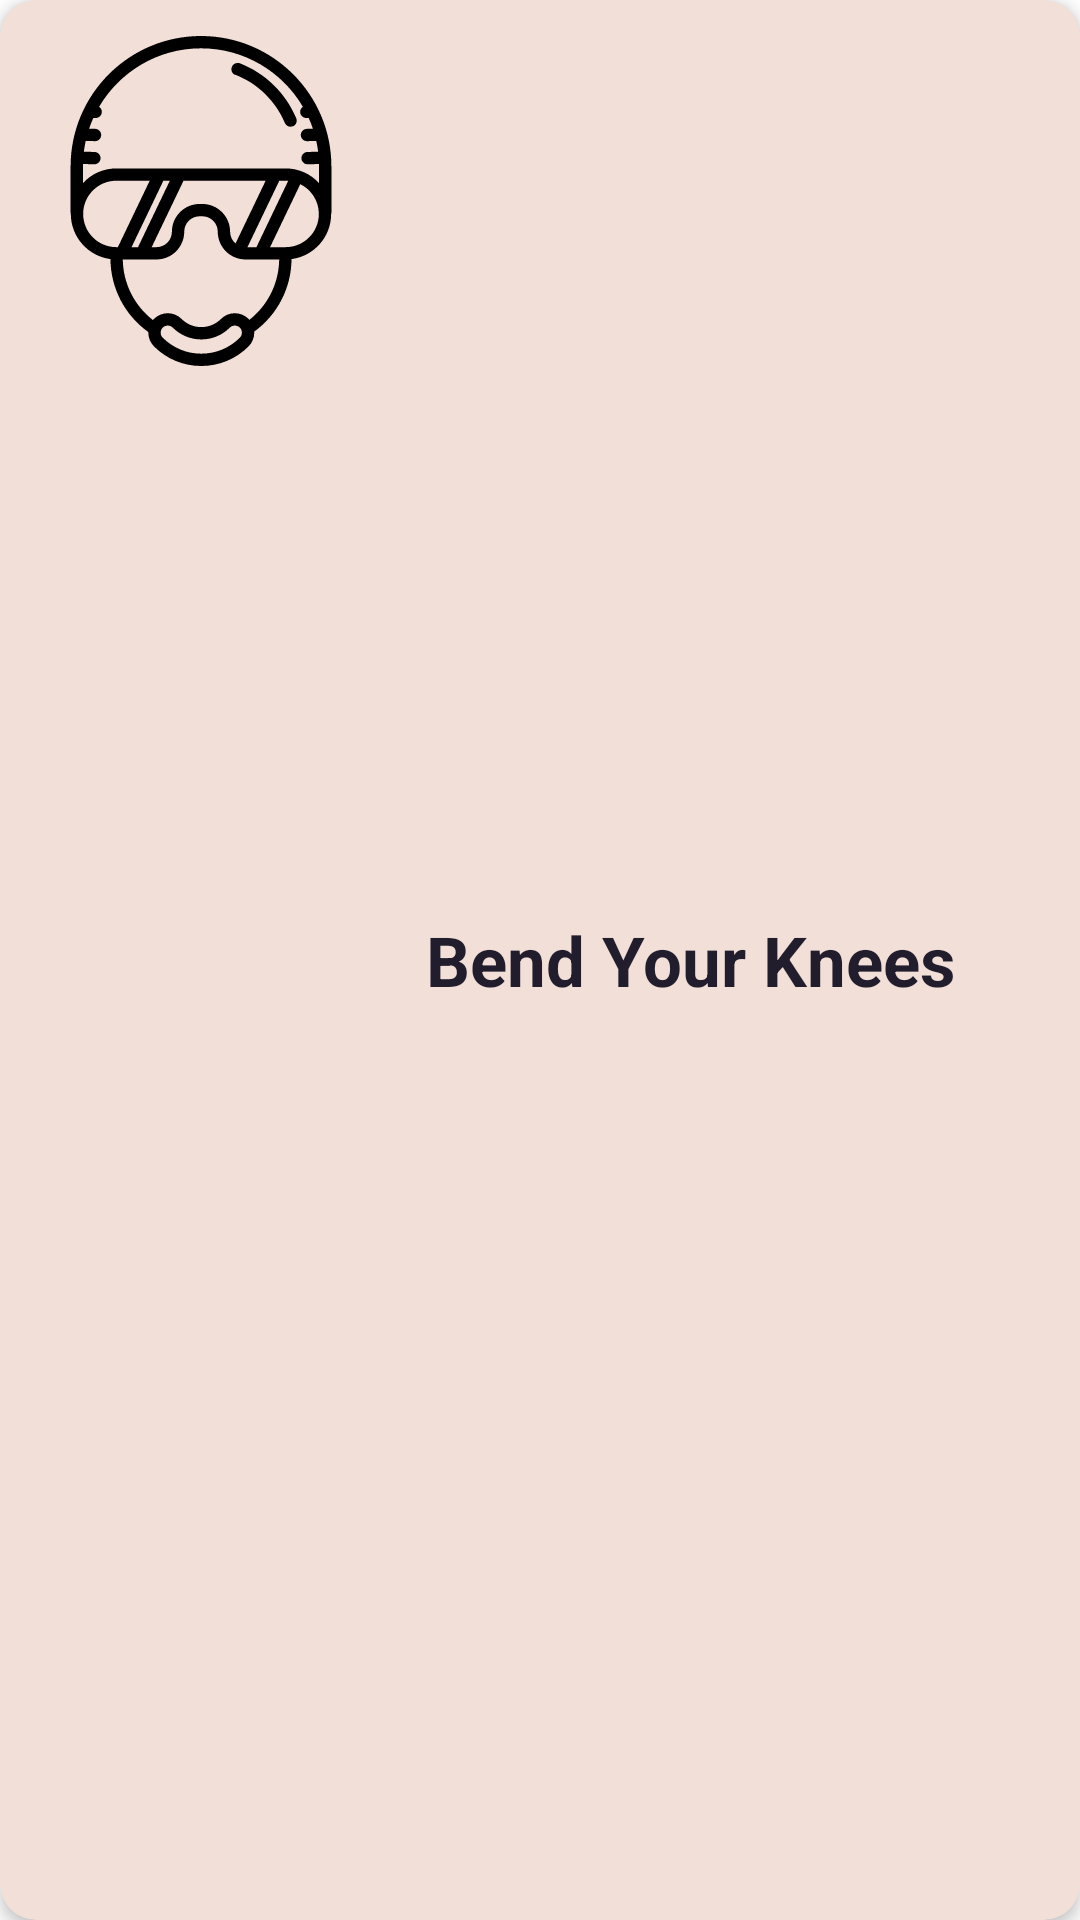

Named icons in this screenshot (1080px×1920px) and their bounding boxes, bbox=[x1, y1, x2, y2]:
equipment: bbox=[70, 36, 332, 366]
